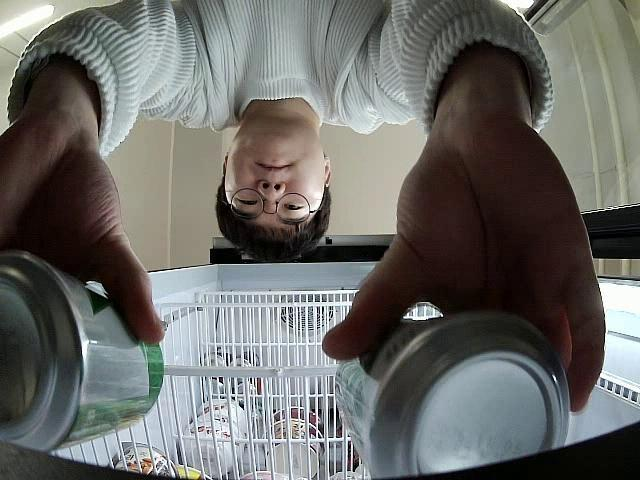12_chilsungCider: (333, 311, 569, 478), (0, 247, 166, 453)
